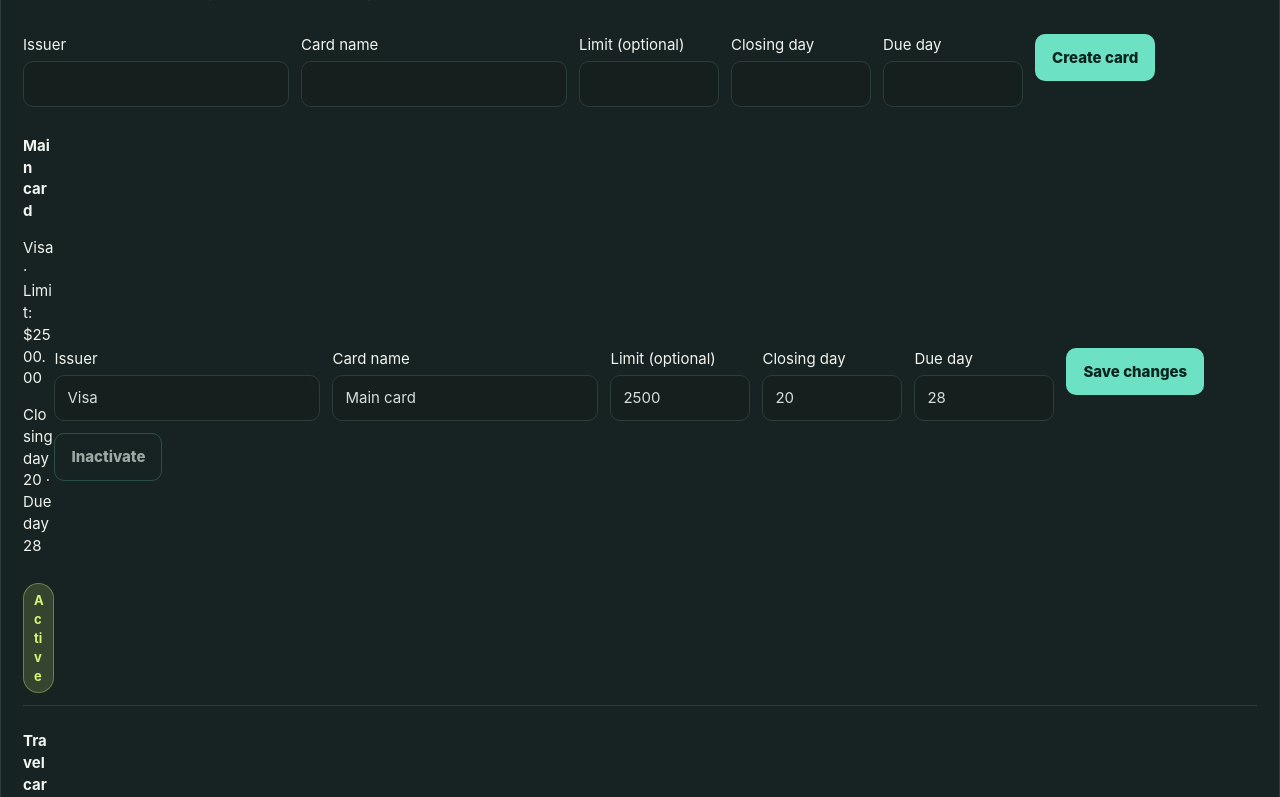
Test: CreditCardsPage › edits a card and refreshes cards and statements
(page scrolled)
Replace the text in the field labelled "Issuer" below "$2500.00" with "Visa Platinum" at (187, 398), box [54, 375, 320, 421]
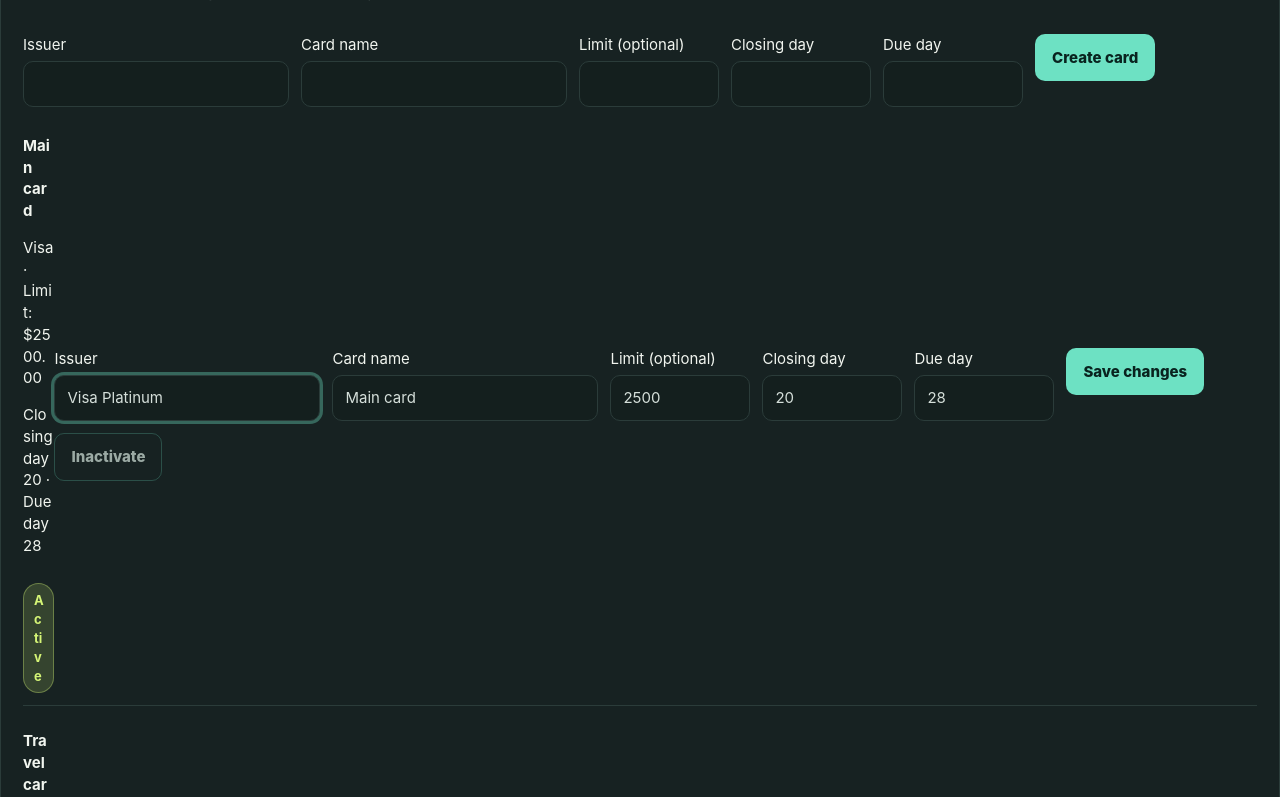
Replace the text in the 2nd field labelled "Card name" with "Primary card" at (465, 398), box [332, 375, 598, 421]
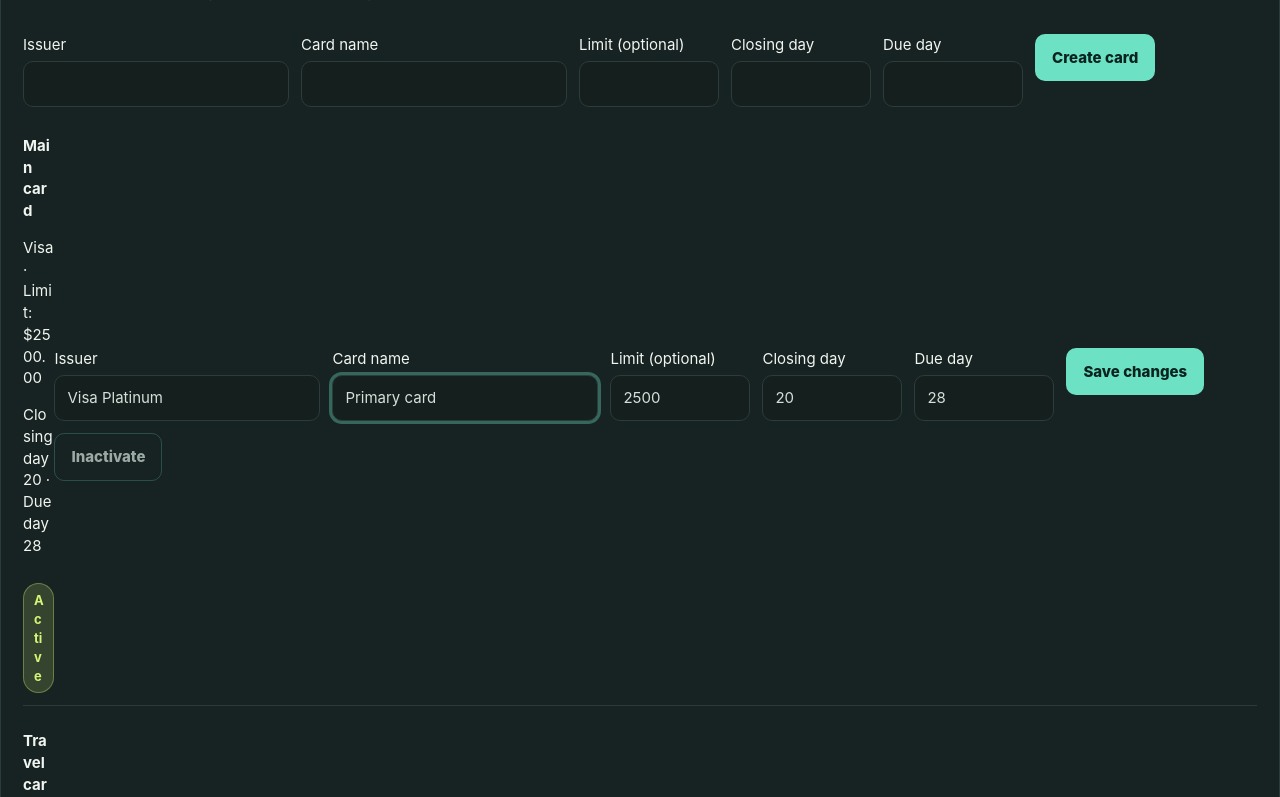
Replace the text in the 2nd number field labelled "Limit (optional)" with "3000" at (680, 398), box [610, 375, 750, 421]
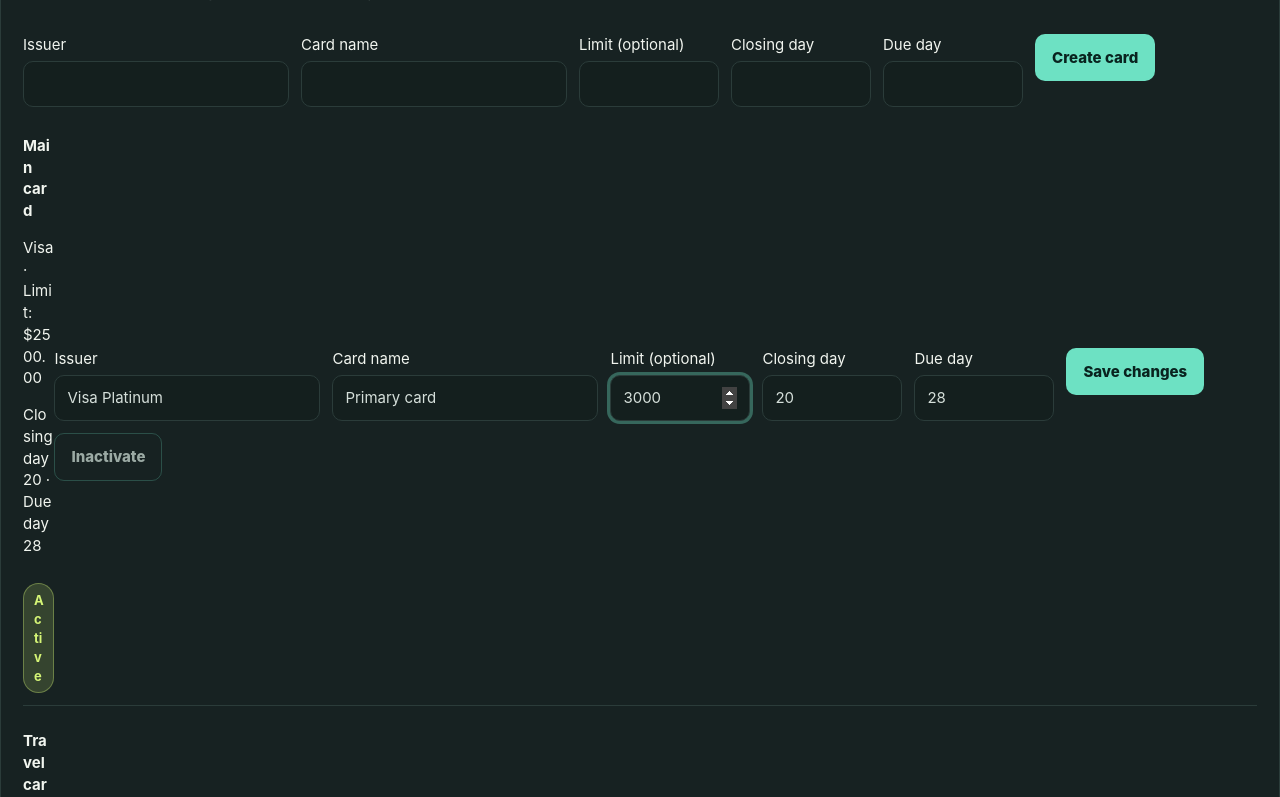
Replace the text in the 2nd number field labelled "Closing day" with "21" at (832, 398), box [762, 375, 902, 421]
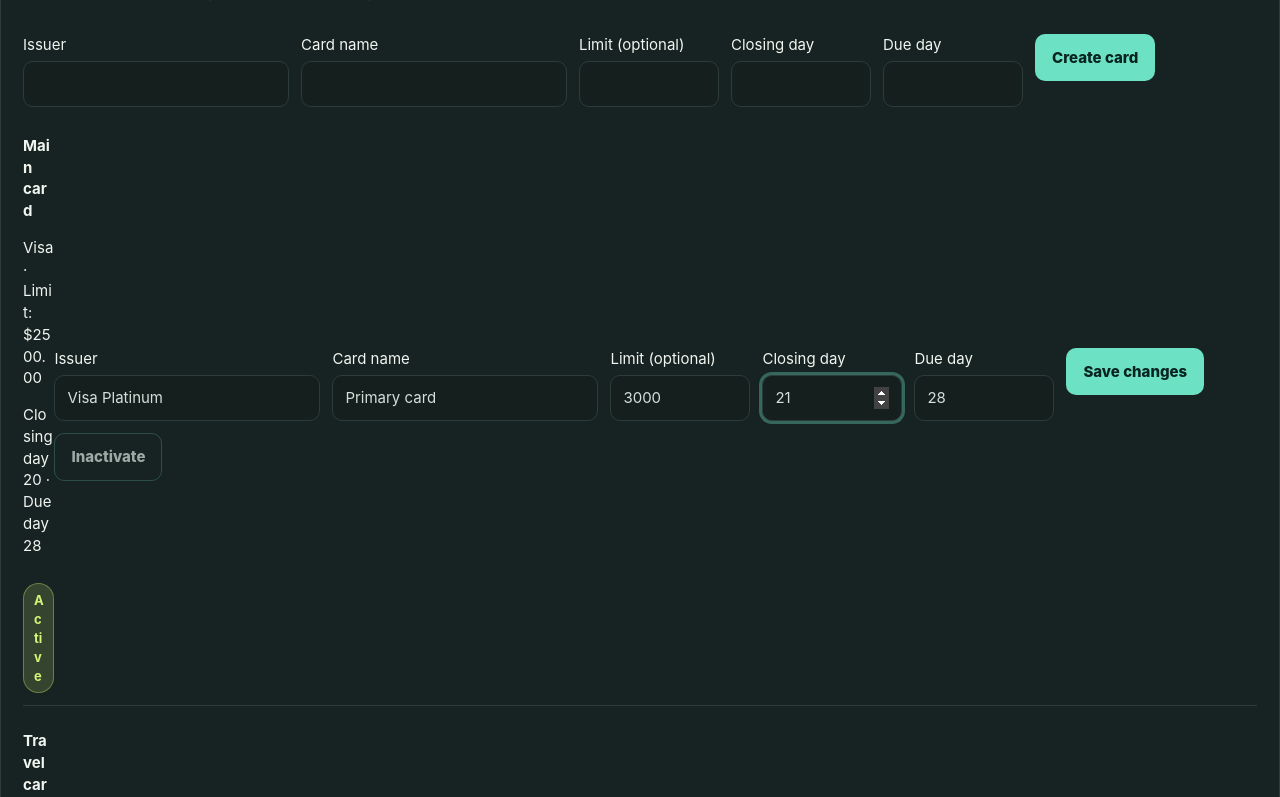
Replace the text in the 2nd number field labelled "Due day" with "29" at (984, 398), box [914, 375, 1054, 421]
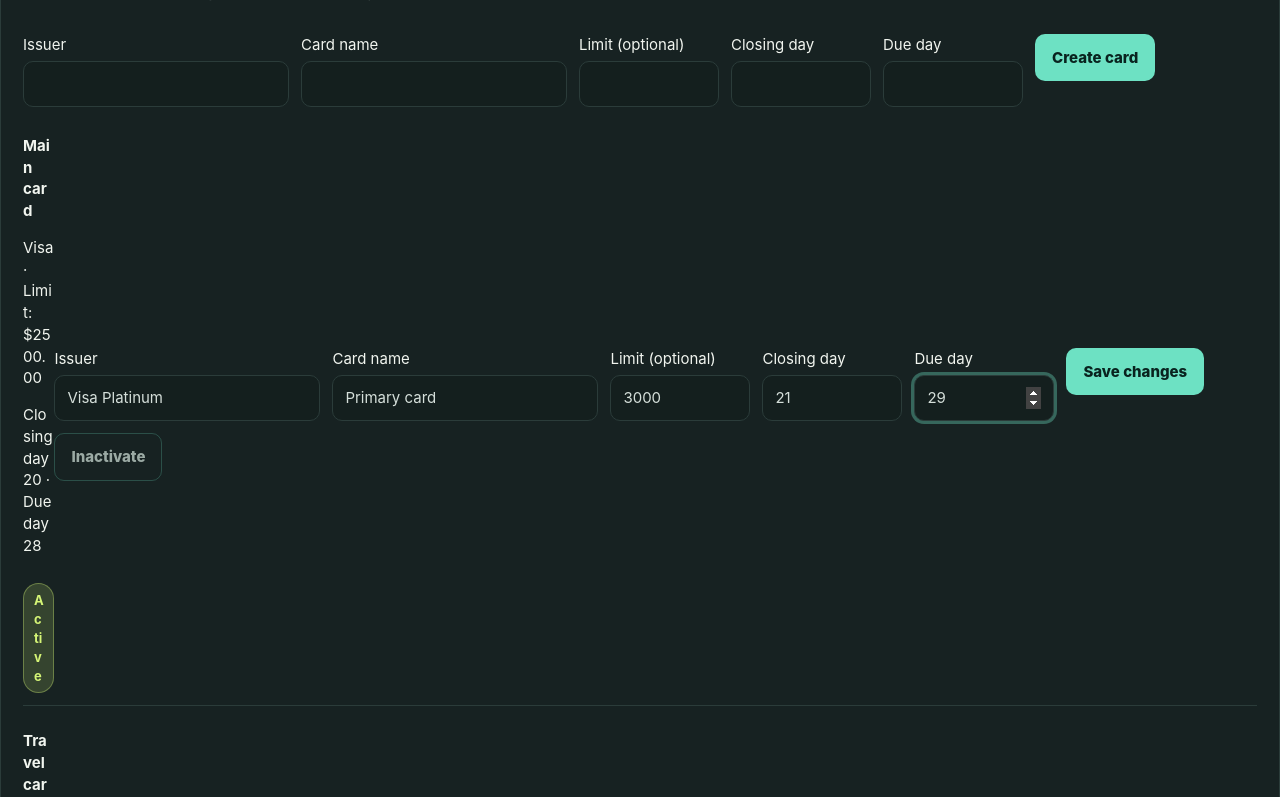
Click the button "Save changes" at (1135, 372), box [1066, 348, 1204, 396]
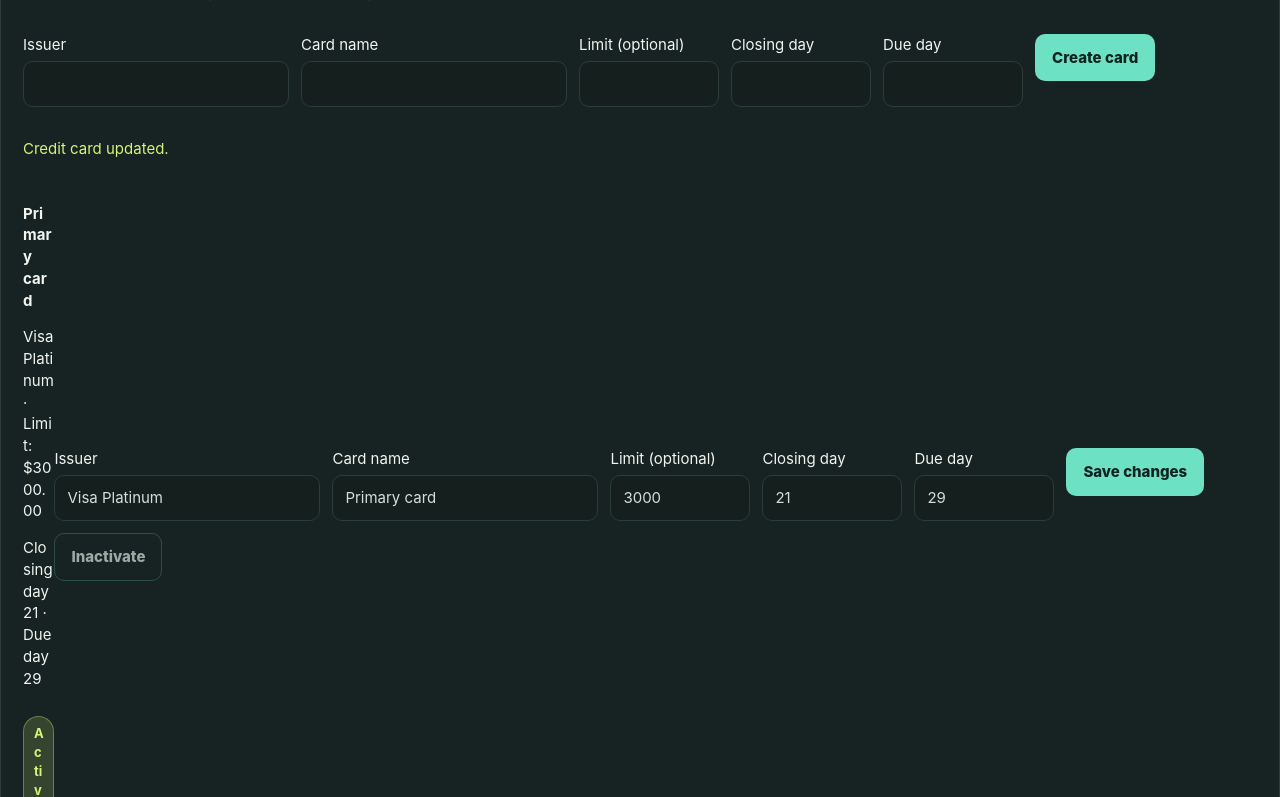
Check: the text "Credit card updated." is shown, box [23, 139, 169, 158]
